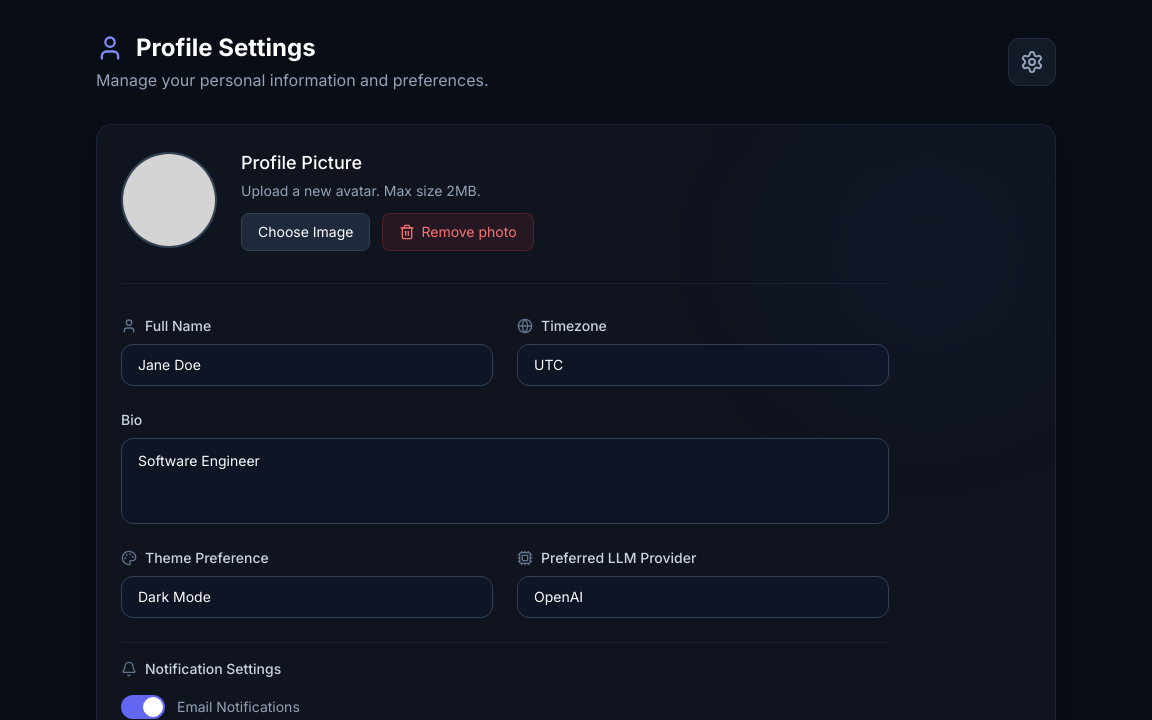
it: ProfilePage and Photo Update › opens confirmation modal when clicking Remove photo, and closes without removing when clicking Cancel
Click the button "Remove photo": (458, 232) [382,213,534,251]
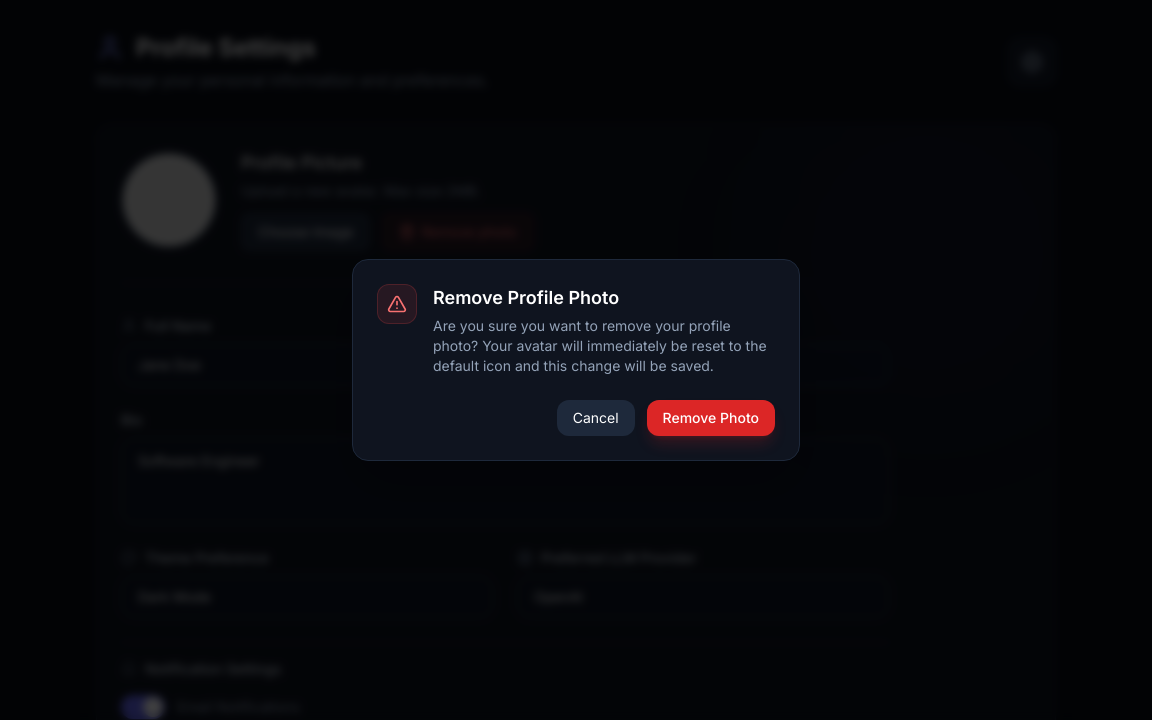
Check: the heading "Remove Profile Photo" is shown, box [433,287,619,308]
Check: the text "Are you sure you want to remove your profile photo?" is shown, box [433,317,767,374]
# Click cancel inside the modal dialog
Click the button with id "btn-confirm-remove-photo": (596, 418) [557,400,635,436]
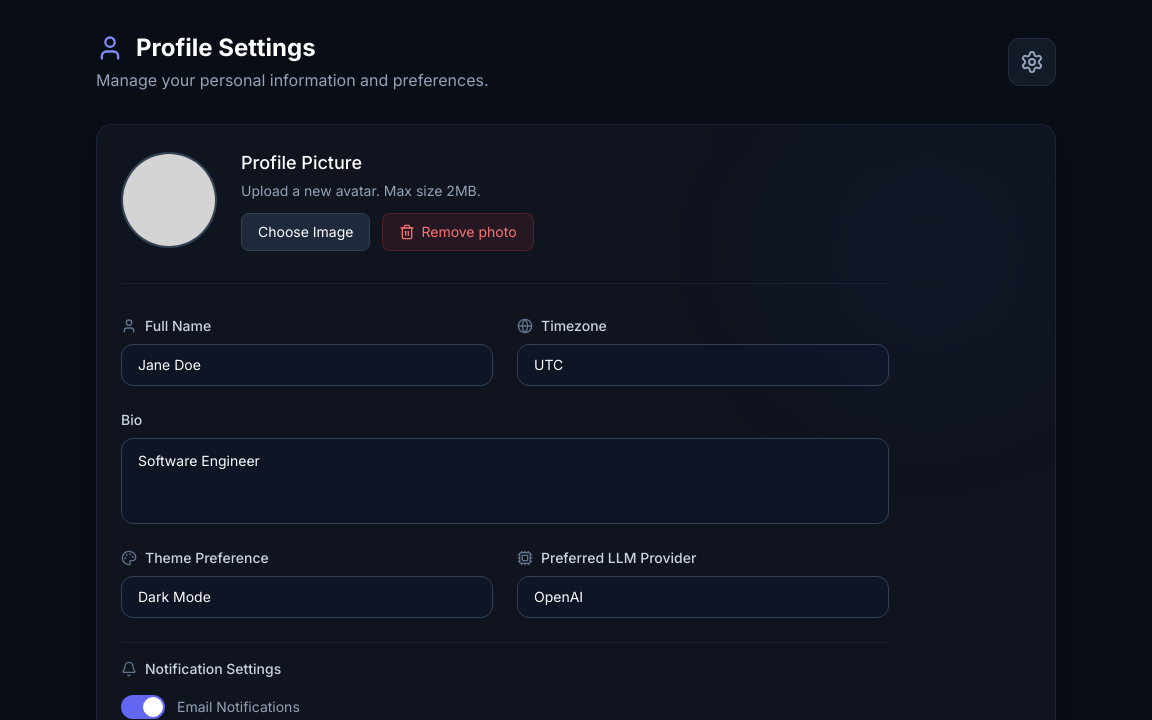
Check: the heading "Remove Profile Photo" is gone
